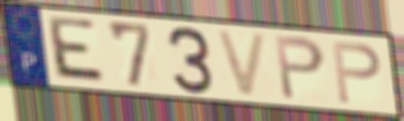3: (164, 23, 213, 96)
7: (104, 19, 156, 89)
E: (47, 14, 109, 87)
P: (272, 33, 328, 103), (329, 38, 384, 106)
V: (213, 27, 271, 99)
